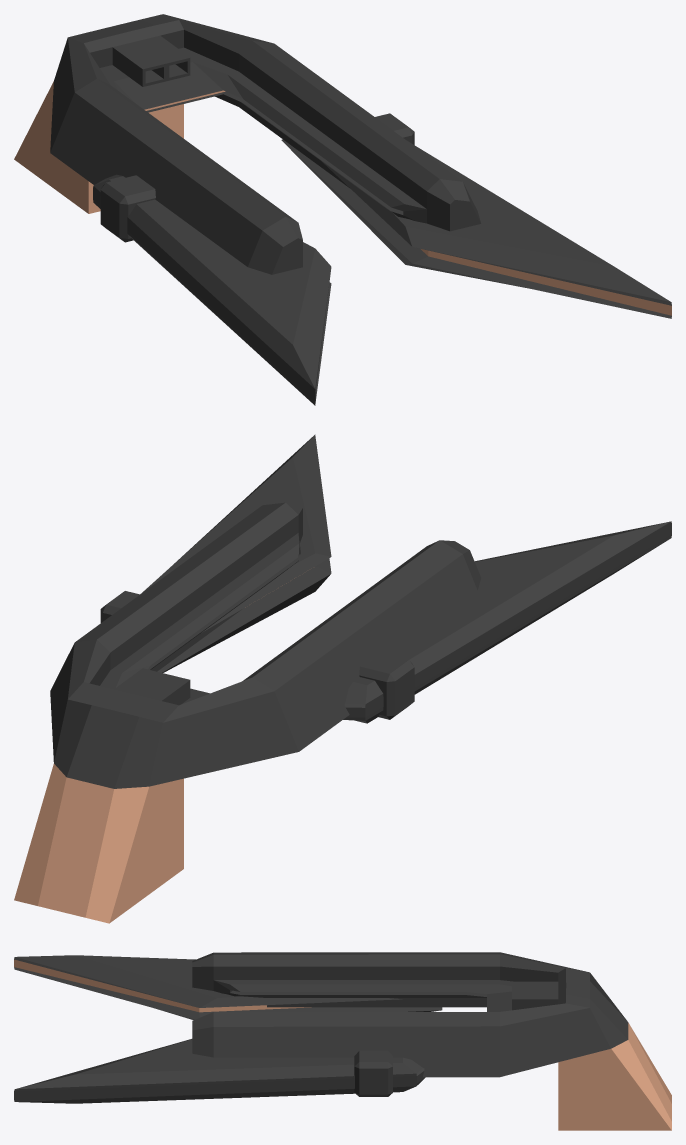
Rendered from PLASMA.fbx.
3 views of the same model, one above another, from view 1: azimuth 30°, elevation 25°; view 2: azimuth 150°, elevation 25°; view 3: azimuth 270°, elevation 25° (orthographic). The views are drawn at different scales.
Visible parts, largest first — view 1: PLASMA; view 2: PLASMA; view 3: PLASMA.
Boxes of the visible parts, x1,y1,x2,y2 form: PLASMA: (14, 14, 671, 405); PLASMA: (14, 434, 671, 923); PLASMA: (14, 952, 671, 1130).
Bounding box in the file's own units: 191 × 87.5 × 401.
